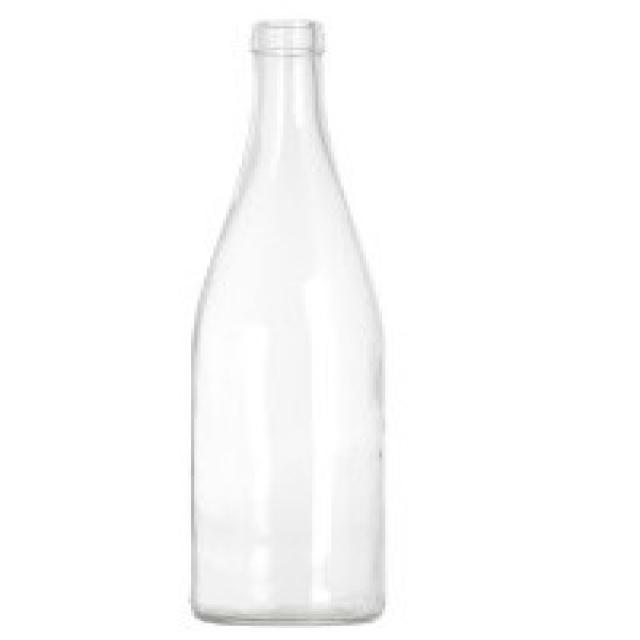electronic: (185, 21, 390, 634)
